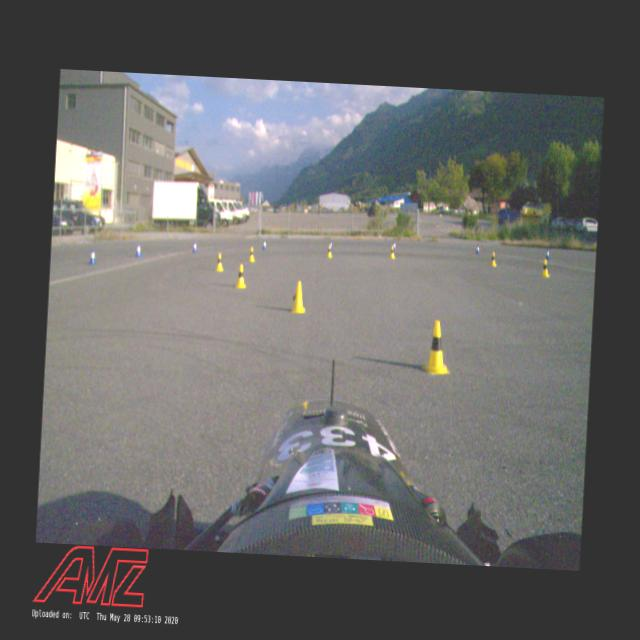blue_cone: (90, 248, 98, 264), (136, 243, 142, 257), (192, 241, 198, 253), (262, 240, 268, 250), (476, 244, 480, 254), (546, 249, 550, 259), (330, 240, 333, 250), (393, 241, 396, 251)
yellow_cone: (422, 320, 452, 375), (290, 282, 306, 314), (234, 264, 247, 290), (216, 252, 224, 272), (542, 259, 550, 278), (248, 246, 256, 262), (490, 252, 497, 267), (326, 245, 333, 259), (390, 245, 396, 259)
